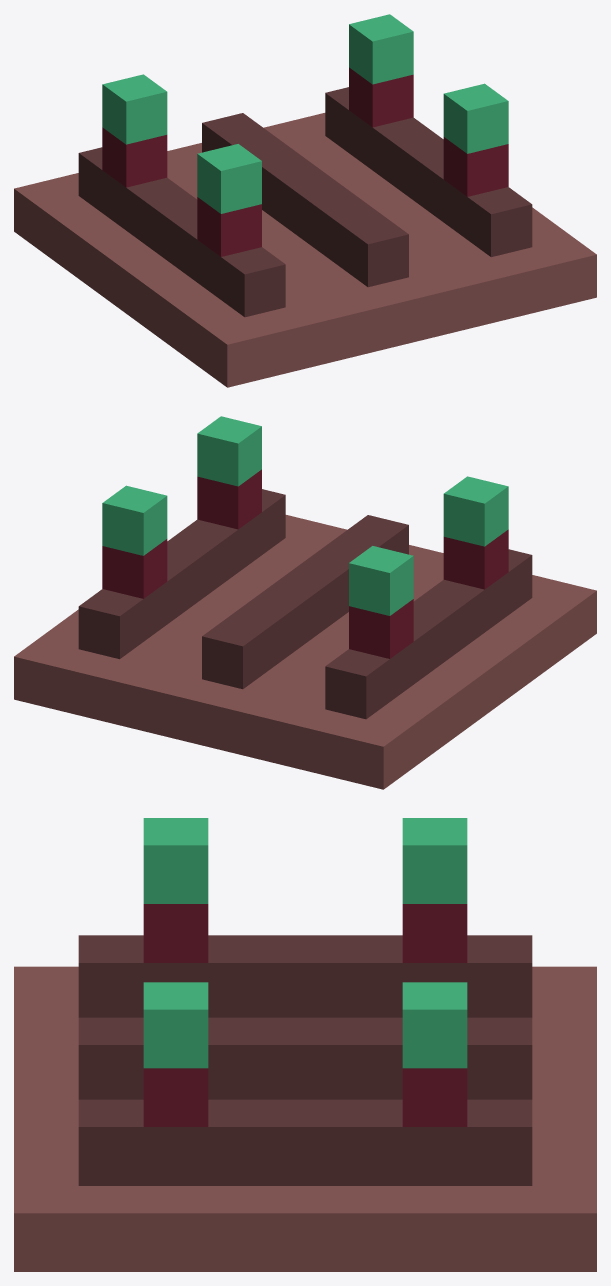
The model's file is Beet 2.obj.
The picture shows the model from 3 angles, top to bottom: view 1: azimuth 30°, elevation 25°; view 2: azimuth 150°, elevation 25°; view 3: azimuth 270°, elevation 25°; orthographic projection. The views are drawn at different scales.
Size of the model in its own units: 0.9 by 0.4 by 0.9.
Materials: 1 (1 with a texture image).
